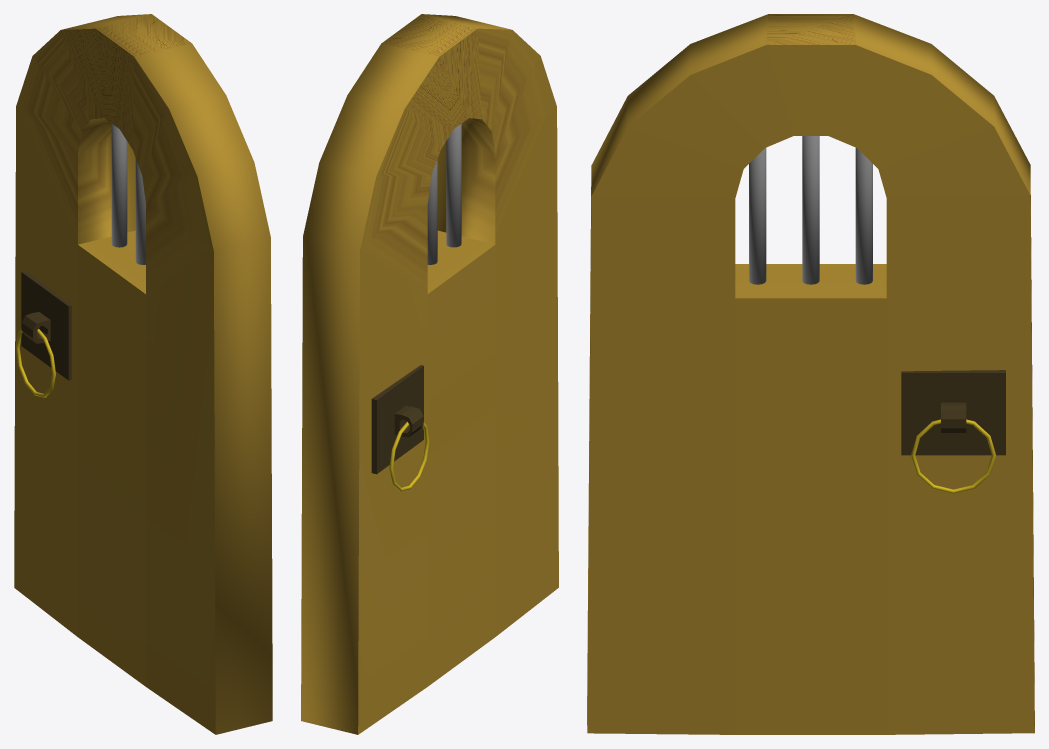
The model's file is Door_Bars.fbx.
The picture shows the model from 3 angles, left to right: view 1: azimuth 30°, elevation 25°; view 2: azimuth 150°, elevation 25°; view 3: azimuth 270°, elevation 25°; orthographic projection. The views are drawn at different scales.
Visible parts, largest first — view 1: Door_Bars; view 2: Door_Bars; view 3: Door_Bars.
Boxes of the visible parts, box(x1,y1,x2,y2) form: Door_Bars: box(14, 14, 272, 734); Door_Bars: box(301, 14, 558, 734); Door_Bars: box(587, 14, 1034, 734).
Bounding box in the file's own units: 145 × 824 × 486.
